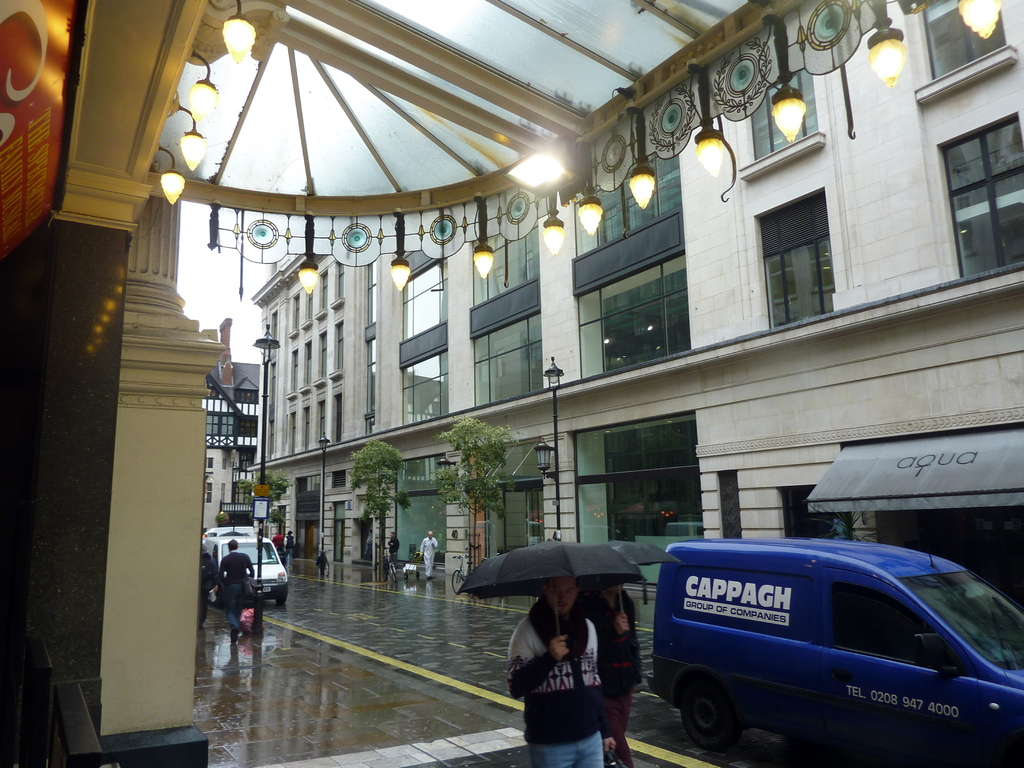Car: (201, 531, 291, 599)
